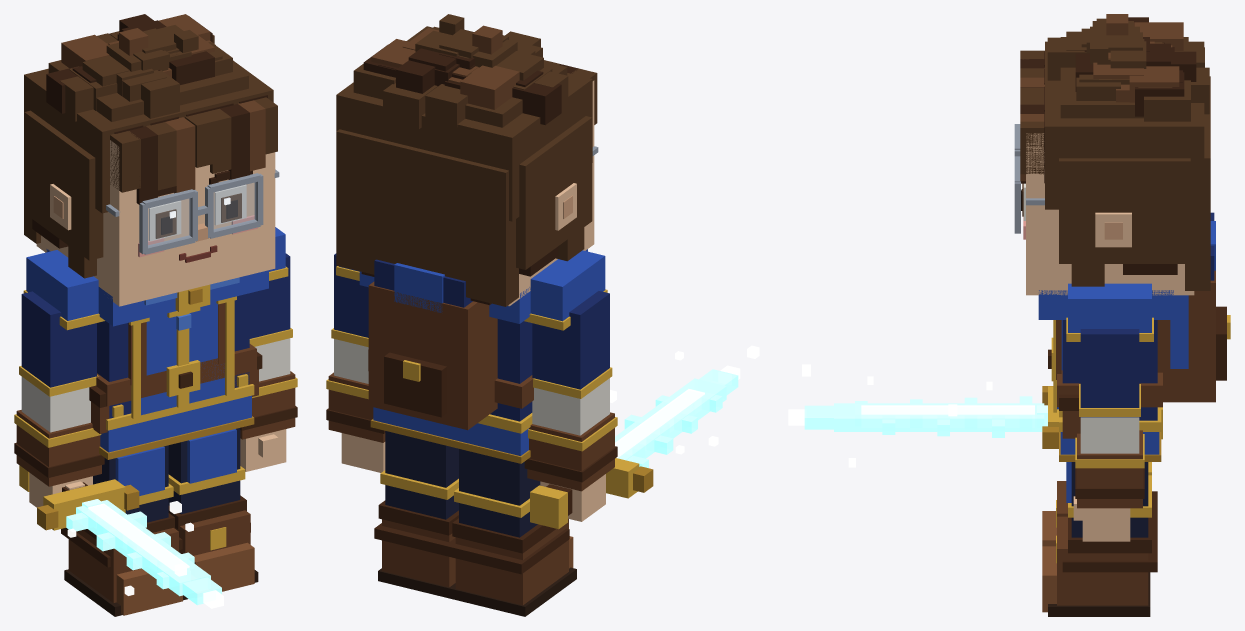
The model's file is player.glb.
The picture shows the model from 3 angles, left to right: view 1: azimuth 30°, elevation 25°; view 2: azimuth 150°, elevation 25°; view 3: azimuth 270°, elevation 25°; orthographic projection. The views are drawn at different scales.
Visible parts, largest first — view 1: head, hair_side_r, hair_cap, right_arm, torso_front, right_shoulder, torso_hem, right_bracer, torso, hair_cap2, sword_blade, right_arm_sleeve (+78 smaller); view 2: hair_back, backpack, hair_cap, hair_side_r, right_arm, left_leg, right_leg, right_boot, right_shoulder, right_bracer, backpack_pocket, right_arm_sleeve (+45 smaller); view 3: hair_side_l, hair_cap, head, left_arm, backpack, left_boot, sword_blade, left_shoulder, left_bracer, hair_back, left_arm_sleeve, torso (+32 smaller).
Boxes of the visible parts, x1,y1,x2,y2 form: head: (36,140,275,306); hair_side_r: (24,110,103,260); hair_cap: (24,60,273,213); right_arm: (21,291,96,387); torso_front: (141,301,224,415); right_shoulder: (26,250,98,320); torso_hem: (100,395,251,452); right_bracer: (16,410,101,486); torso: (97,293,249,418); hair_cap2: (48,60,248,121); sword_blade: (76,500,210,596); right_arm_sleeve: (21,377,90,432); hair_back: (336,129,518,306); backpack: (368,281,497,430); hair_cap: (336,73,592,221); hair_side_r: (516,116,592,269); right_arm: (532,291,609,389); left_leg: (385,431,458,519); right_leg: (459,449,540,537); right_boot: (455,518,568,605); right_shoulder: (530,250,605,321); right_bracer: (527,412,614,491); backpack_pocket: (384,352,446,417); right_arm_sleeve: (532,378,609,435); hair_side_l: (1059,158,1190,263); hair_cap: (1045,41,1204,209); head: (1026,133,1194,295); left_arm: (1080,329,1139,417); backpack: (1157,270,1215,402); left_boot: (1057,516,1148,605); sword_blade: (834,403,1044,431); left_shoulder: (1068,283,1151,332); left_bracer: (1077,430,1142,508); hair_back: (1185,76,1210,290); left_arm_sleeve: (1080,417,1139,453); torso: (1062,320,1157,420).
Bounding box in the file's own units: 1.74 × 3.34 × 2.42.
